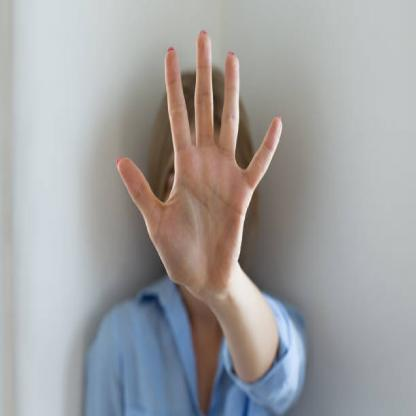stop: (114, 26, 283, 306)
